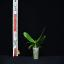leaf: (36, 27, 46, 44), (23, 32, 35, 44), (36, 36, 46, 45), (26, 42, 35, 47), (36, 42, 44, 47), (29, 45, 35, 49), (36, 46, 42, 48), (35, 40, 37, 43)
